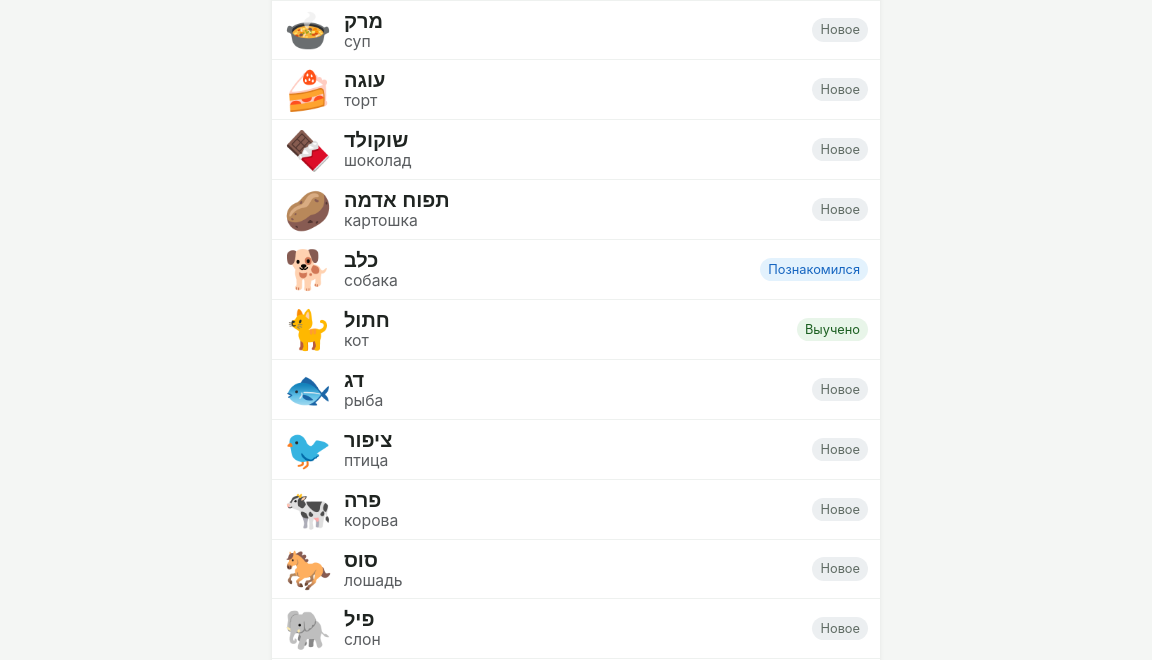
Test: Прогресс › показывает трудные слова и карточку слова
The width and height of the screenshot is (1152, 660).
(page scrolled)
Click the button "🐈 חתול кот Выучено".
click(308, 329)  # box [272,300,880,360]
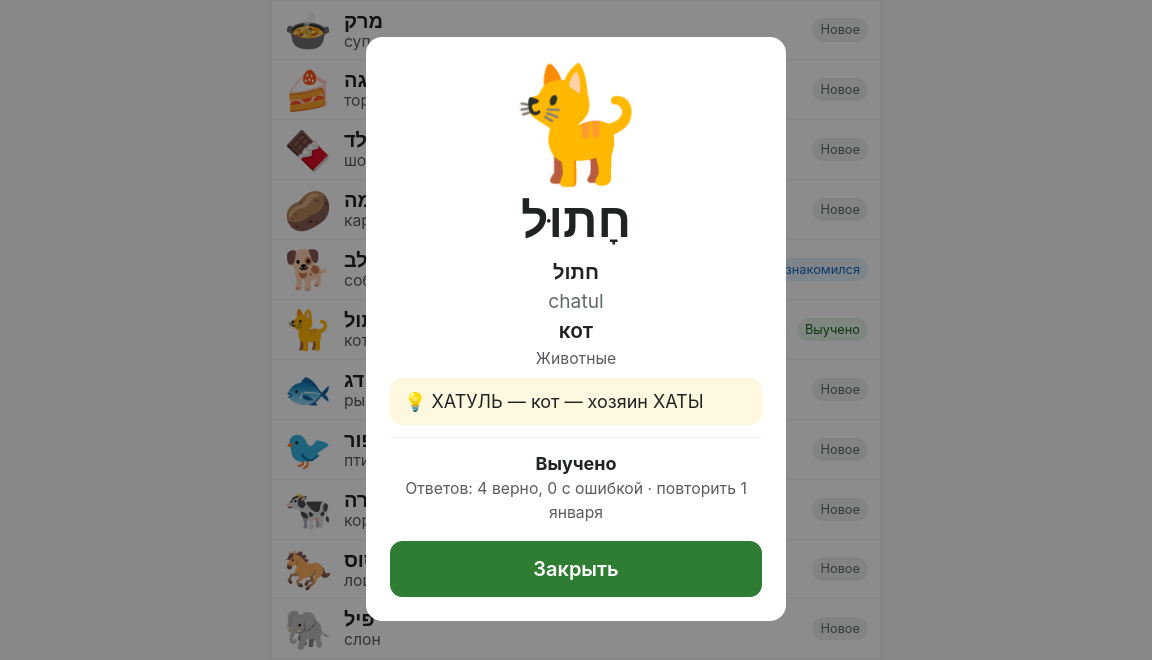
Check: the dialog "кот" shows "Выучено", box [536,453,616,474]
